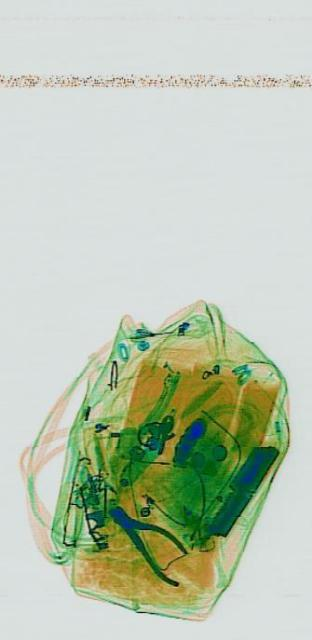Pliers: (106, 483, 186, 592)
